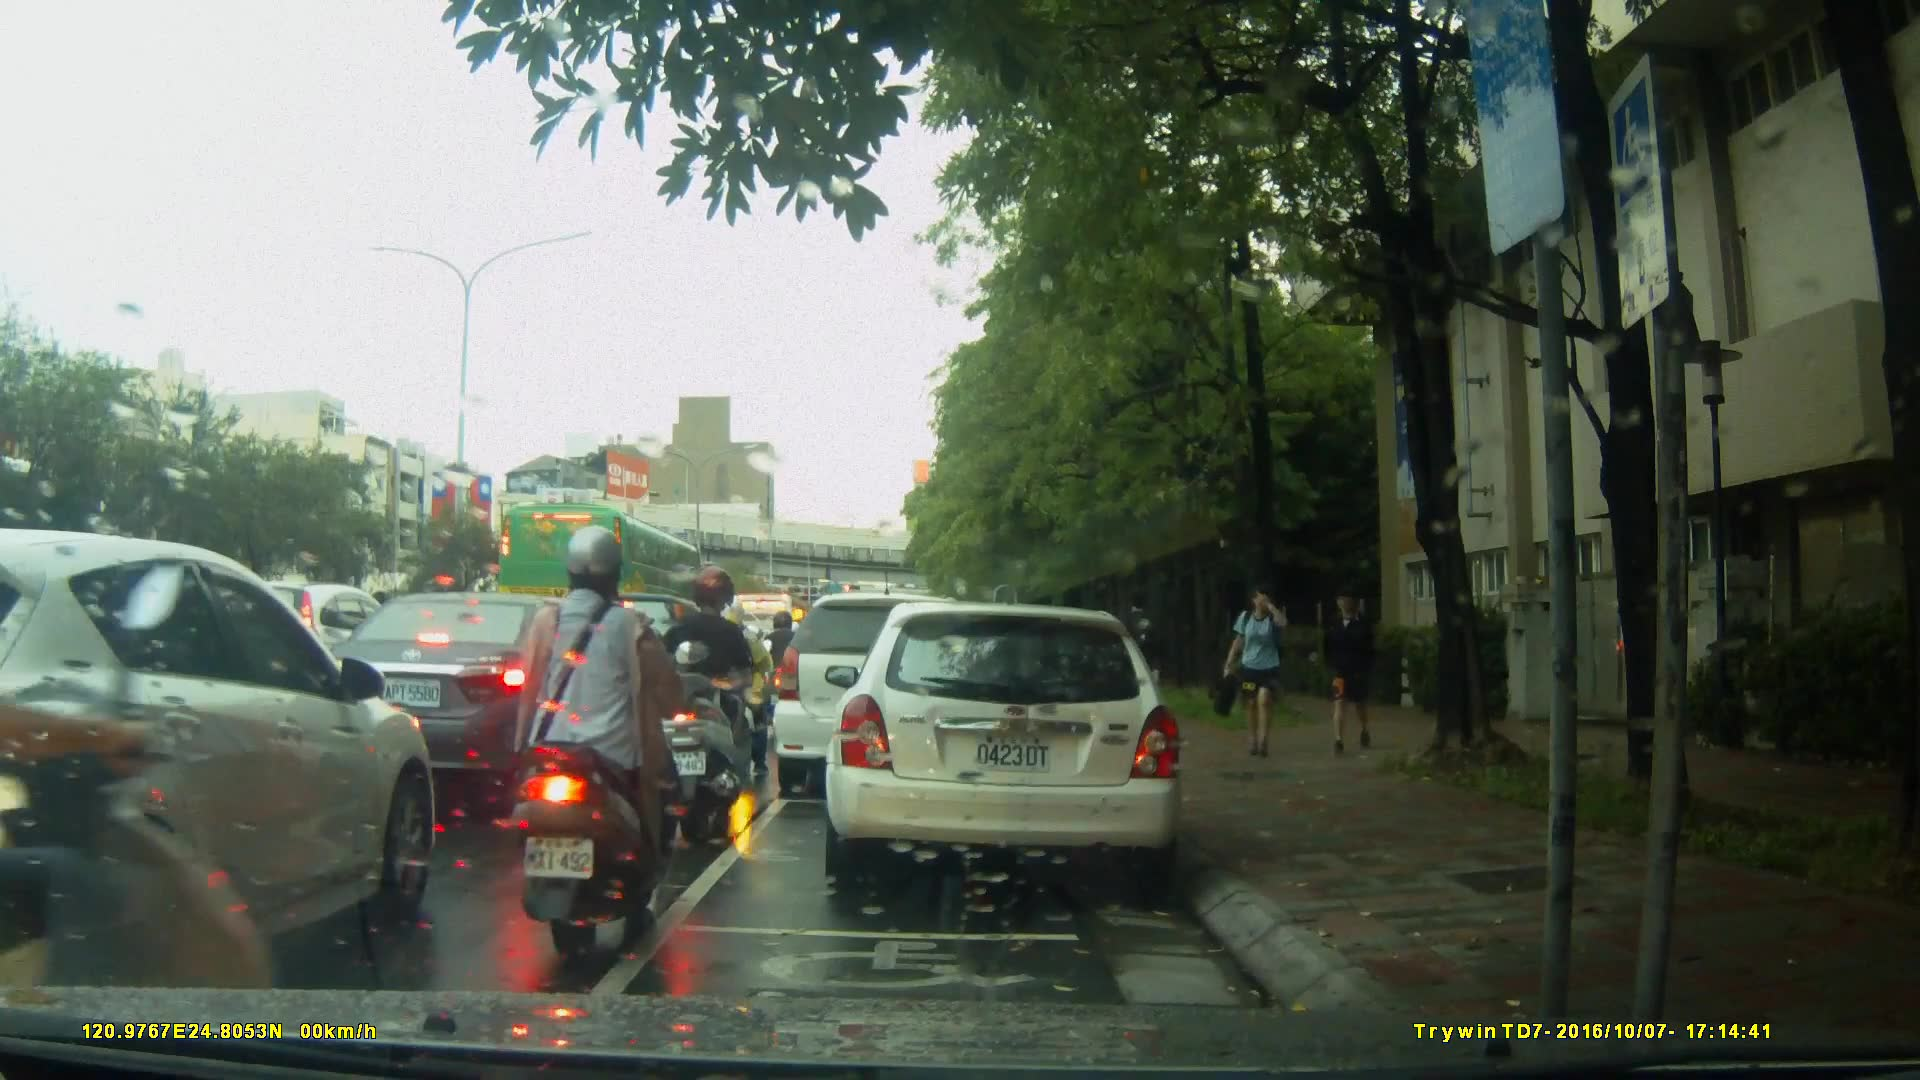pedestrian: (1210, 581, 1323, 761), (1320, 574, 1391, 763), (1123, 596, 1163, 726)
rider: (511, 527, 676, 960), (649, 569, 752, 832), (704, 596, 773, 774), (755, 610, 813, 751)
vehicle: (1, 528, 446, 987), (831, 592, 1196, 897), (312, 590, 639, 806), (770, 592, 999, 802), (495, 500, 707, 637)
